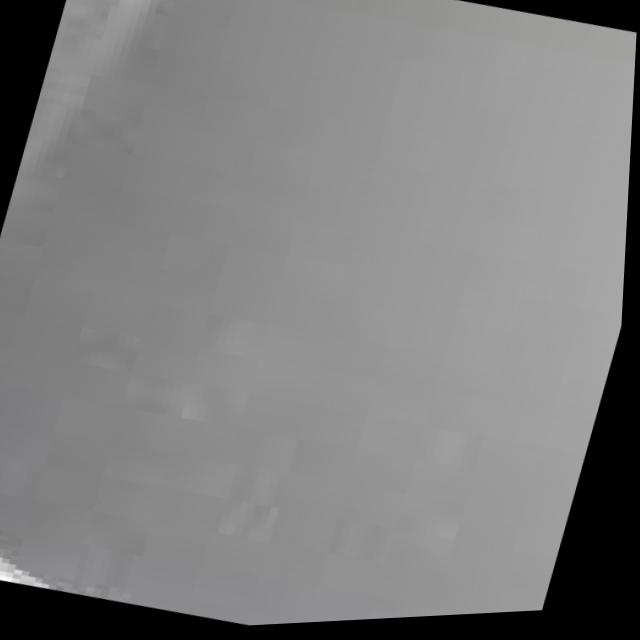metal-plates: (1, 1, 638, 629)
